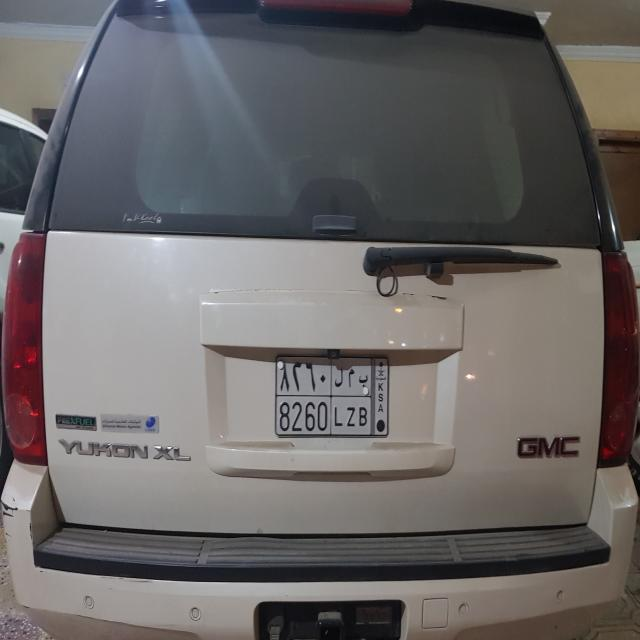license_plate: (273, 353, 390, 439)
